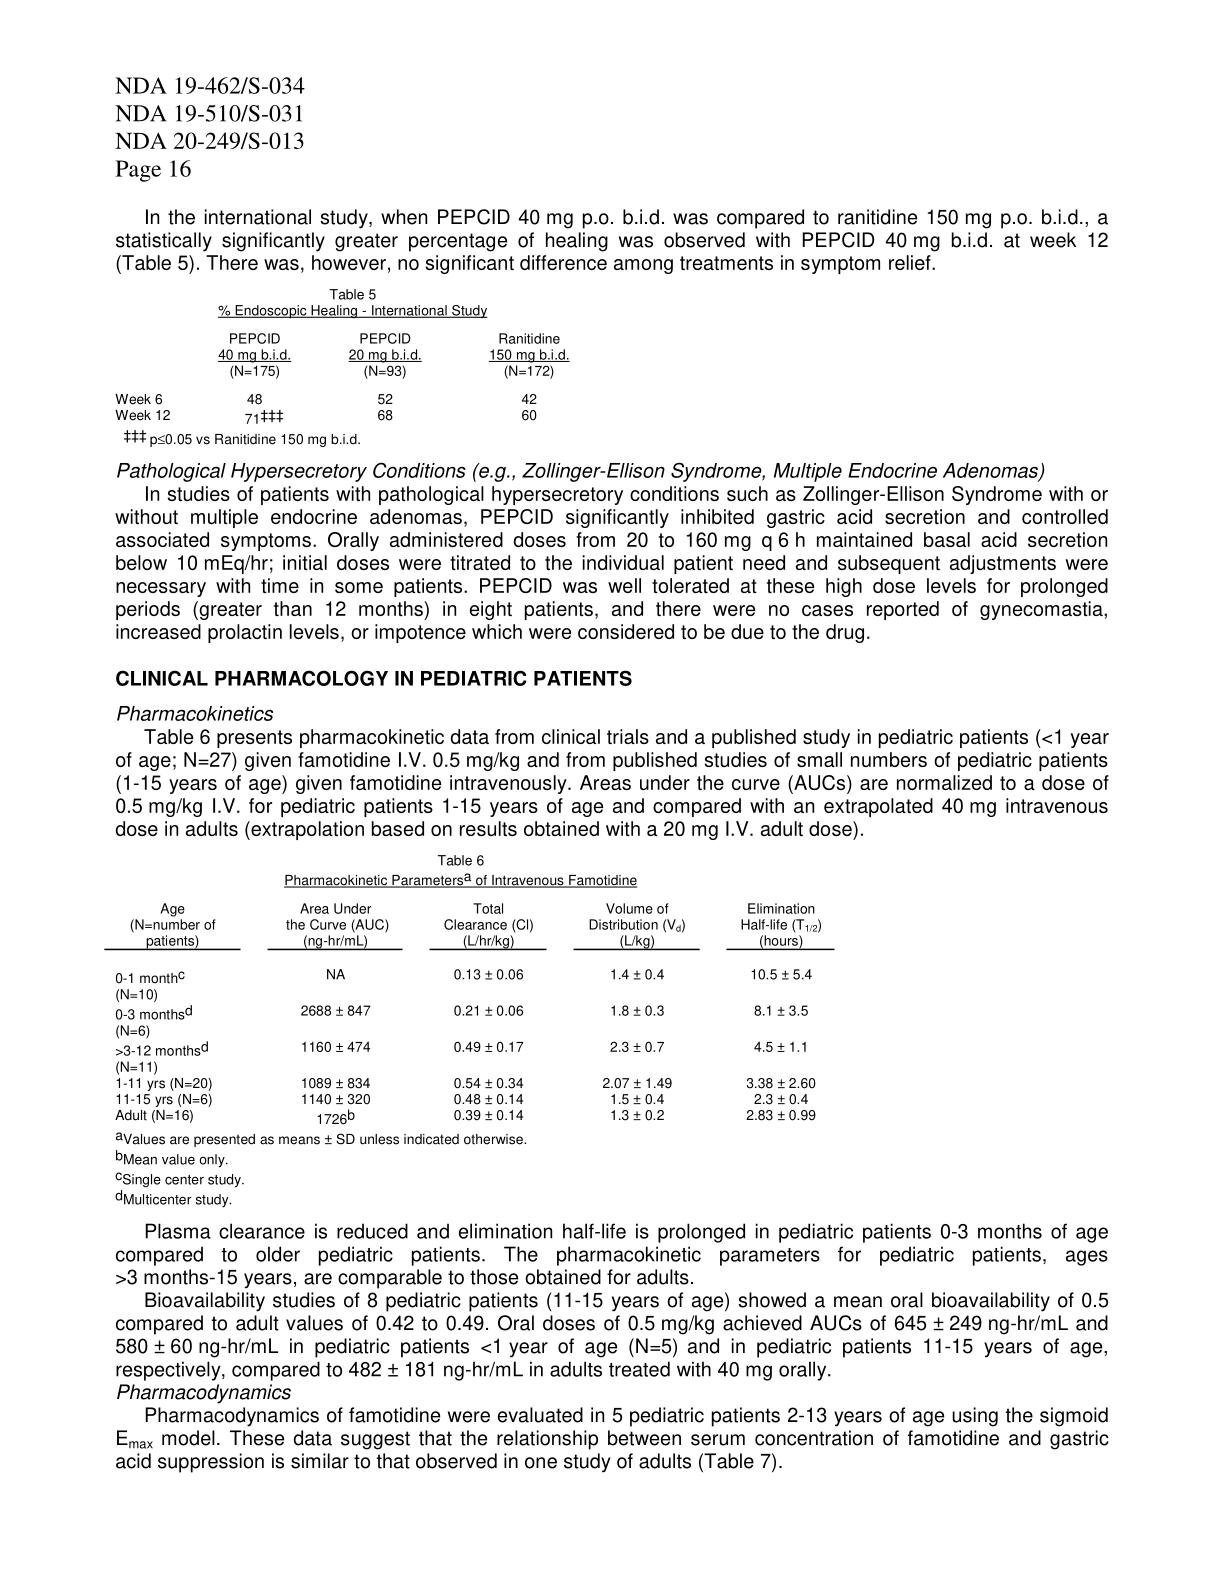nolines: (105, 897, 834, 1128), (113, 329, 570, 423)
